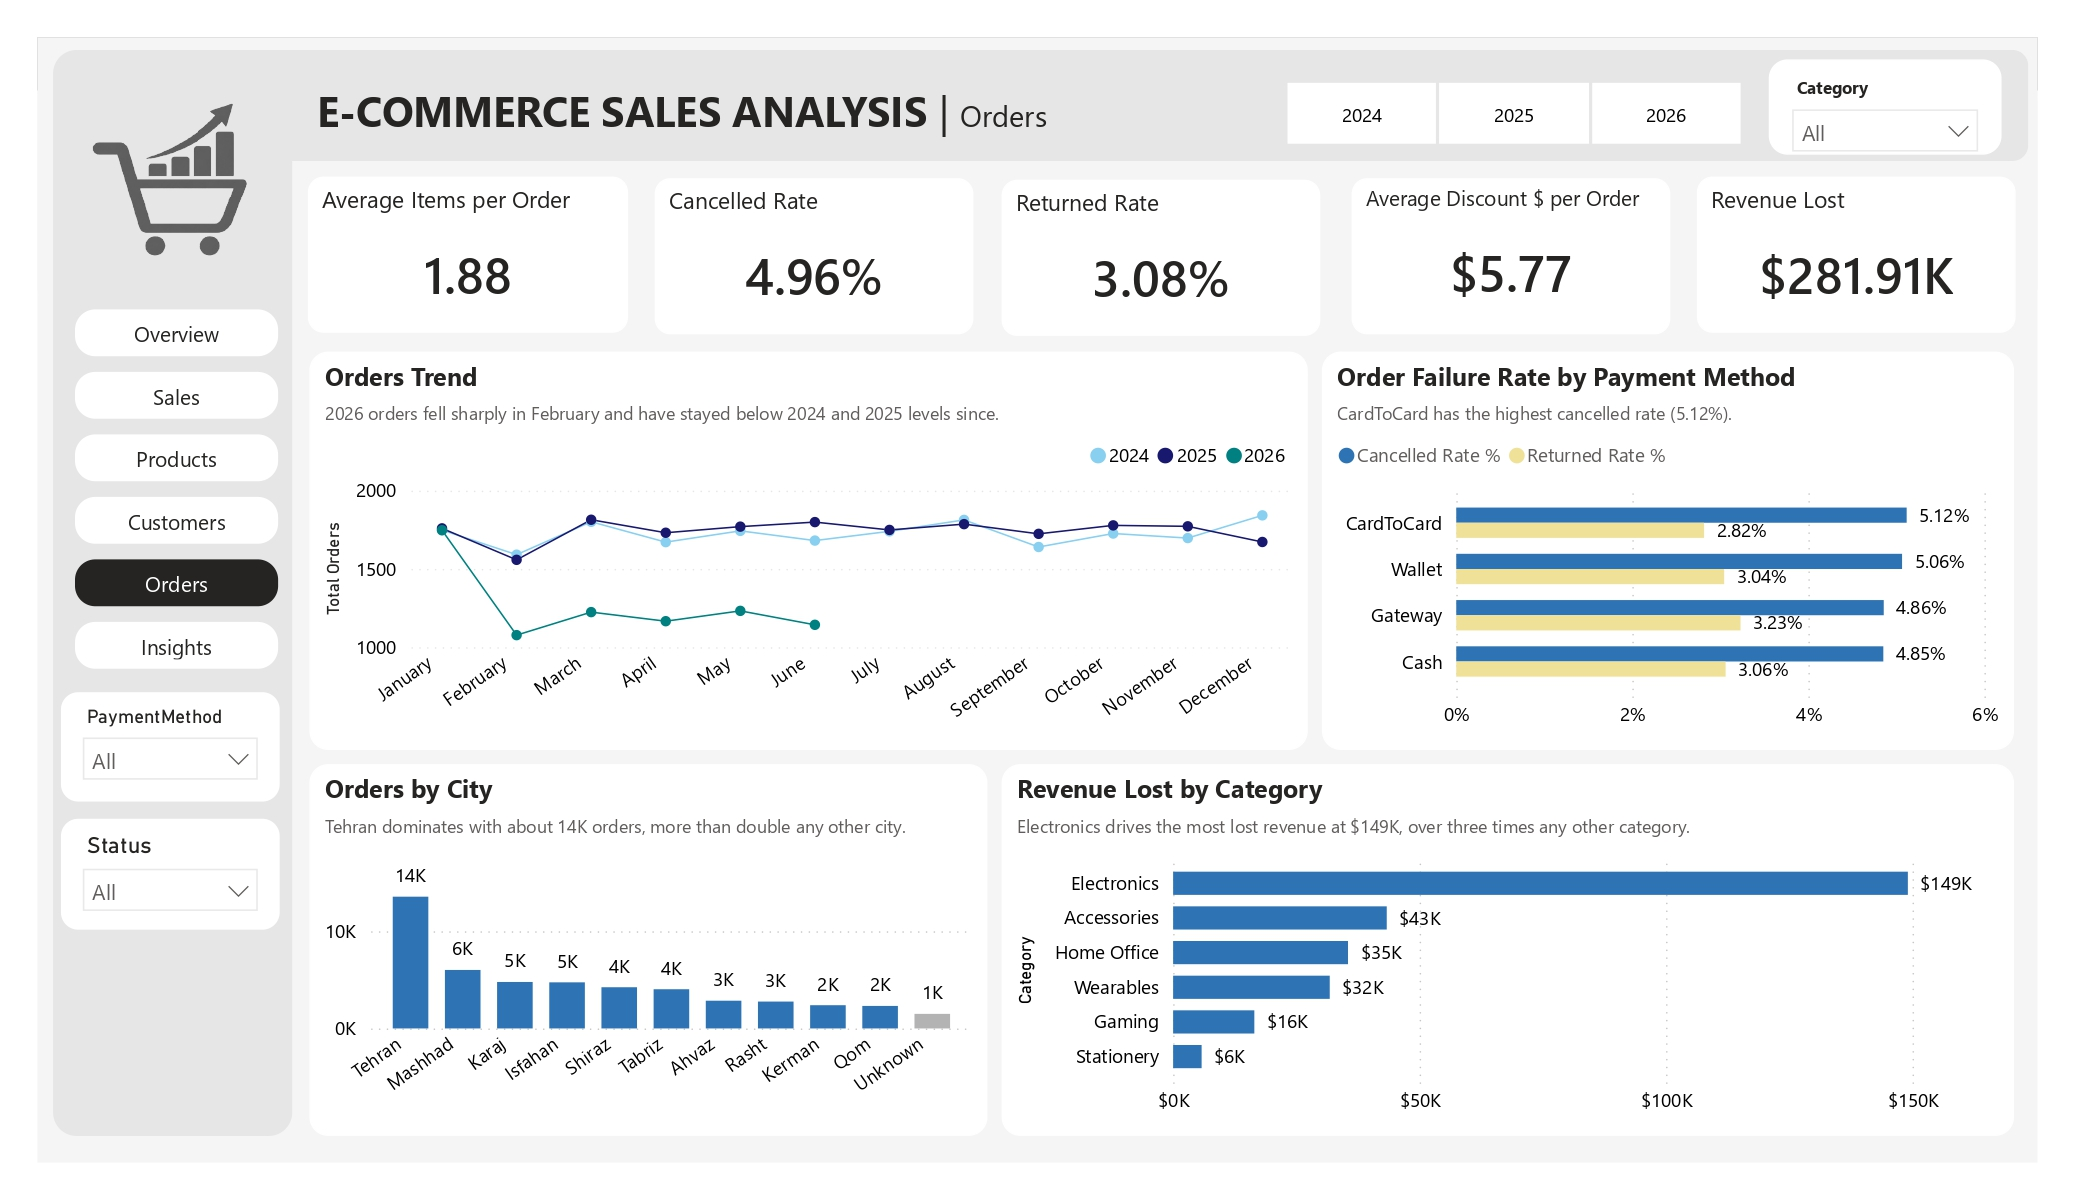

What the dashboard file says about the page in this screenshot:
{"tool":"powerbi","page":{"name":"Orders","canvas":[1280,720],"ordinal":4},"visuals":[{"type":"textbox","box":[138.9,8.3,1134.7,70.8],"z":0},{"type":"cardVisual","title":"Average Items per Order","fields":{"Data":["DAX Measure.Average Items per Order"]},"box":[173.4,89.3,204.5,100.2],"z":1000},{"type":"shape","box":[9.6,8.2,153.7,694.3],"z":2000},{"type":"pageNavigator","box":[23.6,173.6,130.6,235],"z":3000},{"type":"cardVisual","title":"Cancelled Rate  ","fields":{"Data":["DAX Measure.Cancelled Rate %"]},"box":[394.9,90.4,204.2,100],"z":4000},{"type":"cardVisual","title":"Returned Rate","fields":{"Data":["DAX Measure.Returned Rate %"]},"box":[616.6,90.7,204.5,100.2],"z":5000},{"type":"cardVisual","title":"Average Discount $ per Order","fields":{"Data":["DAX Measure.Average Discount $ per Order"]},"box":[840.7,90.4,204.2,100],"z":6000},{"type":"cardVisual","title":"Revenue Lost ","fields":{"Data":["DAX Measure.Revenue Lost"]},"box":[1061.6,89,204.2,100],"z":7000},{"type":"image","box":[12.5,22.2,151.4,133.3],"z":8000},{"type":"slicer","fields":{"Values":["DimDate.Year"]},"box":[773.6,22.2,340.3,52.8],"z":9000},{"type":"slicer","fields":{"Values":["DimProducts.Category"]},"box":[1108.3,13.9,148.6,61.1],"z":10000},{"type":"lineChart","title":"Orders Trend","fields":{"Category":["DimDate.Month"],"Y":["DAX Measure.Total Orders"],"Series":["DimDate.Year"]},"box":[173.6,201.1,639.5,254.8],"z":11000},{"type":"columnChart","title":"Orders by City","fields":{"Category":["DimCustomers.City"],"Y":["CountNonNull(FactOrders.OrderID)"]},"box":[173.6,464.6,434.7,238.6],"z":12000},{"type":"clusteredBarChart","title":"Order Failure Rate by Payment Method","fields":{"Y":["DAX Measure.Cancelled Rate %","DAX Measure.Returned Rate %"],"Category":["FactOrders.PaymentMethod"]},"box":[821.9,201.1,443.4,254.8],"z":13000},{"type":"clusteredBarChart","title":"Revenue Lost by Category","fields":{"Category":["DimProducts.Category"],"Y":["DAX Measure.Revenue Lost"]},"box":[617,464.6,648.2,238.6],"z":14000},{"type":"slicer","fields":{"Values":["FactOrders.PaymentMethod"]},"box":[14,417.9,142.5,72.5],"z":15000},{"type":"slicer","fields":{"Values":["FactOrders.Status"]},"box":[14,499.2,142.5,72.5],"z":16000}]}

Visuals, with their boxes on the page's 1280x720 design canvas (x1, y1, x2, y2). These are canvas units, not pixel positions in the 2075x1200 screenshot, which may show the page scaled, cropped or inside an application window:
textbox: 139, 8, 1274, 79
"Average Items per Order" cardVisual: 173, 89, 378, 190
shape: 10, 8, 163, 702
pageNavigator: 24, 174, 154, 409
"Cancelled Rate  " cardVisual: 395, 90, 599, 190
"Returned Rate" cardVisual: 617, 91, 821, 191
"Average Discount $ per Order" cardVisual: 841, 90, 1045, 190
"Revenue Lost " cardVisual: 1062, 89, 1266, 189
image: 12, 22, 164, 156
slicer - DimDate.Year: 774, 22, 1114, 75
slicer - DimProducts.Category: 1108, 14, 1257, 75
"Orders Trend" lineChart: 174, 201, 813, 456
"Orders by City" columnChart: 174, 465, 608, 703
"Order Failure Rate by Payment Method" clusteredBarChart: 822, 201, 1265, 456
"Revenue Lost by Category" clusteredBarChart: 617, 465, 1265, 703
slicer - FactOrders.PaymentMethod: 14, 418, 156, 490
slicer - FactOrders.Status: 14, 499, 156, 572
